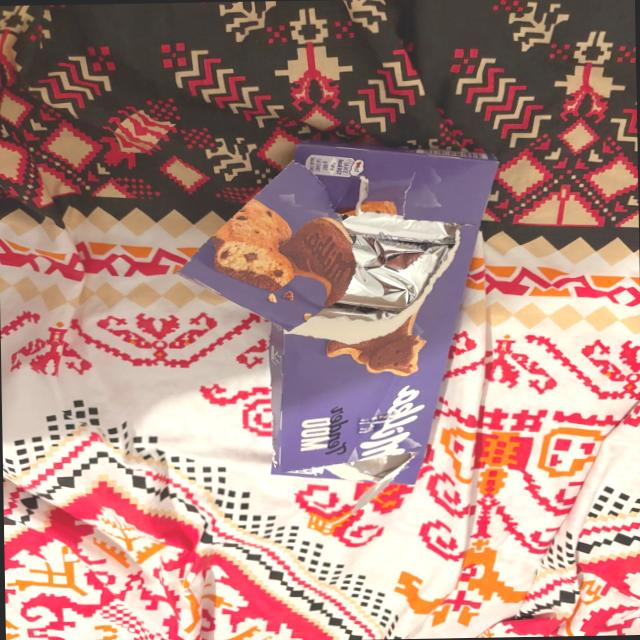damaged_package: (174, 138, 505, 513)
